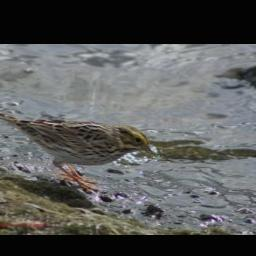Sparrow: (0, 106, 155, 191)
